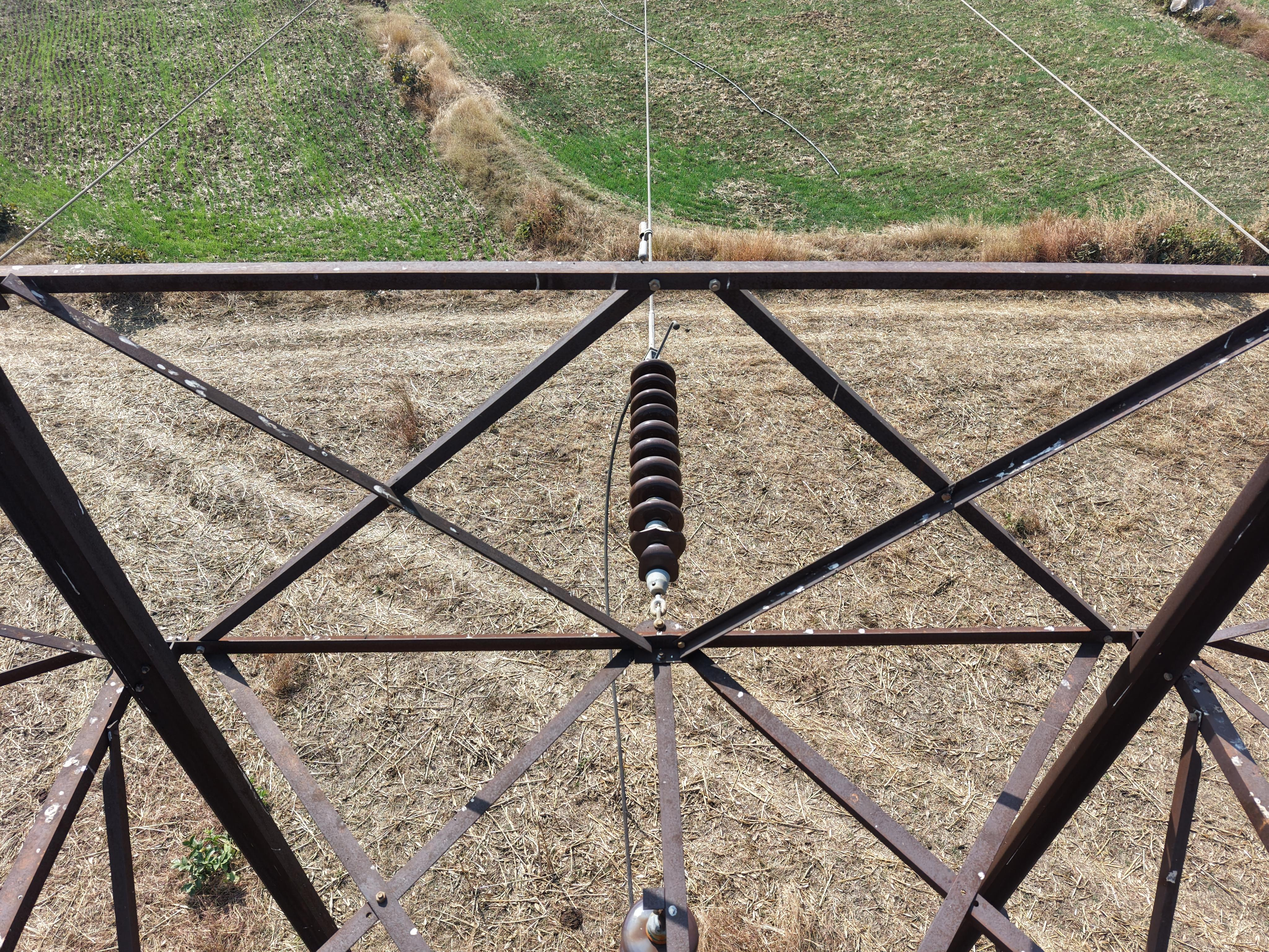broken_insulator: (628, 526, 689, 543)
